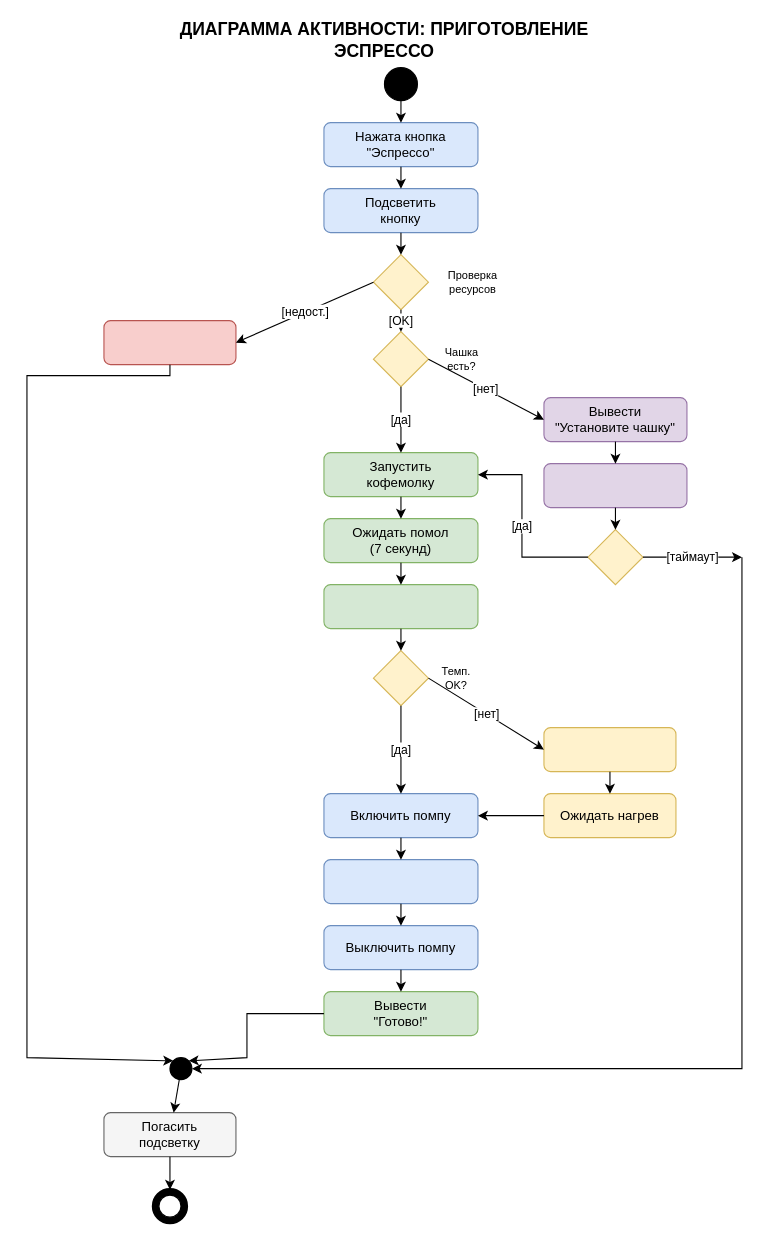
The diagram is 770 pixels wide and 1243 high, and some of its shapes have lost their labels. Each missing label, with the centre of its shape:
"Включить нагреватель" belongs at (609,749).
"Вывести ошибку на дисплей" belongs at (169,342).
"Ожидать чашку (таймаут 30с)" belongs at (615,485).
"Остановить кофемолку" belongs at (400,606).
"Пролив воды (25 секунд)" belongs at (400,881).
